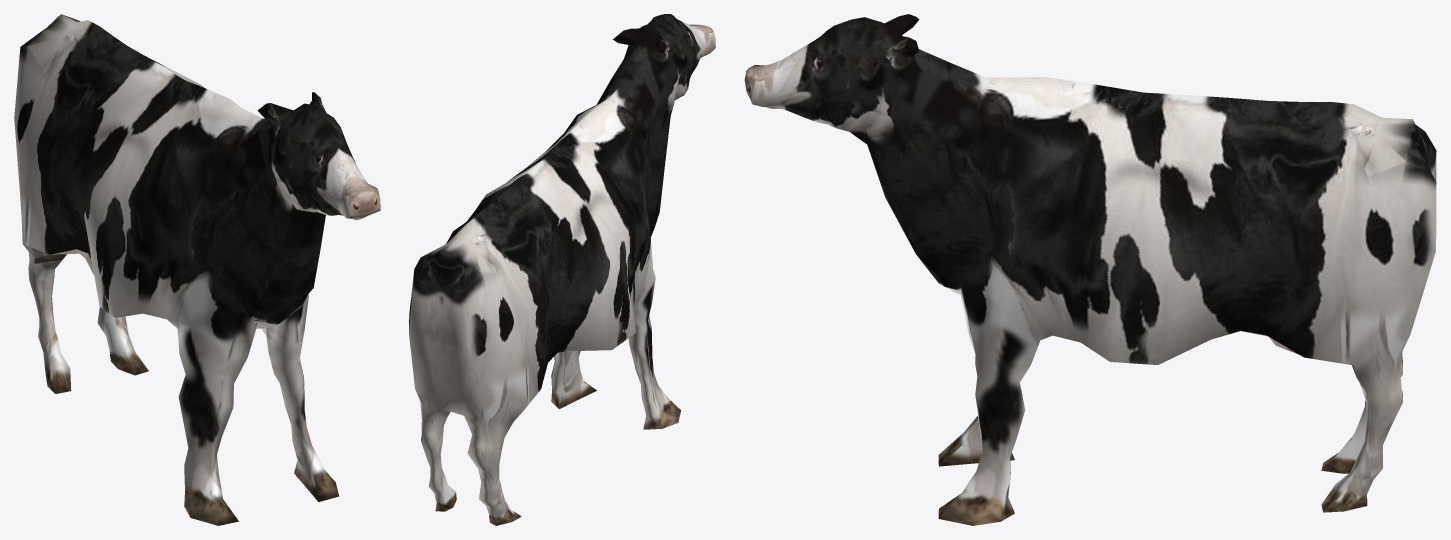
File: Cow-irl.glb
The picture shows the model from 3 angles, left to right: view 1: azimuth 30°, elevation 25°; view 2: azimuth 150°, elevation 25°; view 3: azimuth 270°, elevation 25°; orthographic projection. The views are drawn at different scales.
Visible parts, largest first — view 1: Cow; view 2: Cow; view 3: Cow.
Part boxes in pixels (box(x1,y1,x2,y2)): Cow: box(14, 14, 380, 525); Cow: box(409, 14, 715, 525); Cow: box(744, 14, 1436, 525).
Size of the model in its own units: 0.2205 by 0.5331 by 0.7133.
1 material, 1 textured.
